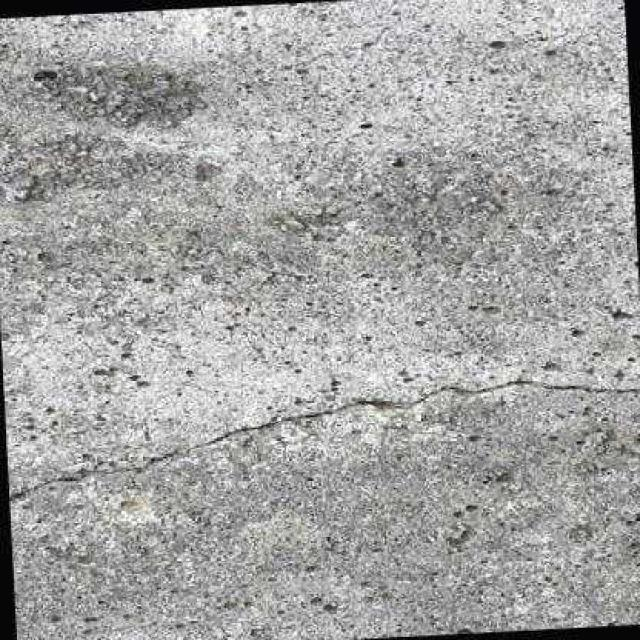D00: (9, 378, 640, 498)
